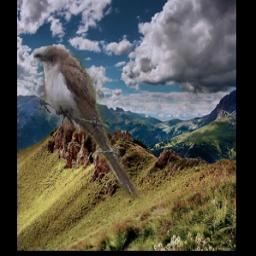Cuckoo: (33, 46, 140, 199)
